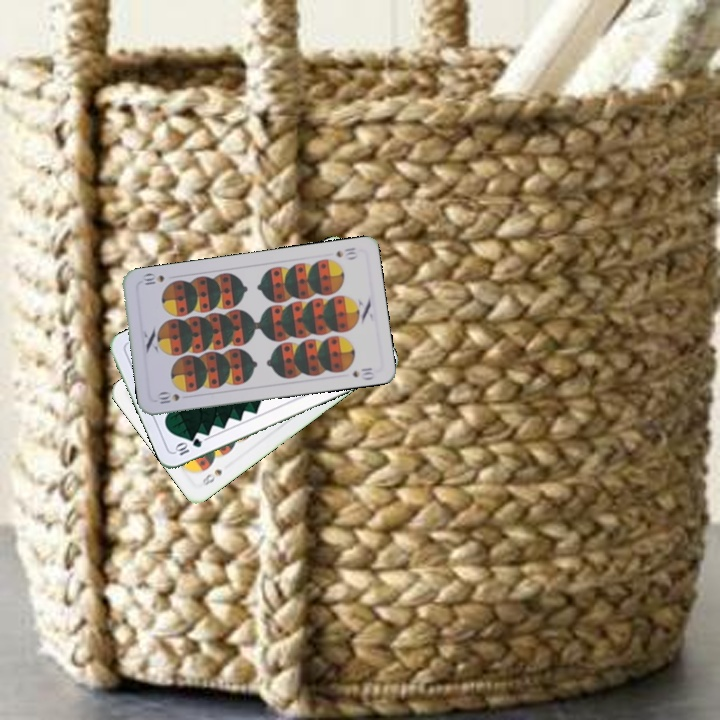G10: (171, 434, 205, 458)
S10: (332, 243, 360, 262), (155, 388, 182, 406)
S8: (198, 465, 225, 489)
